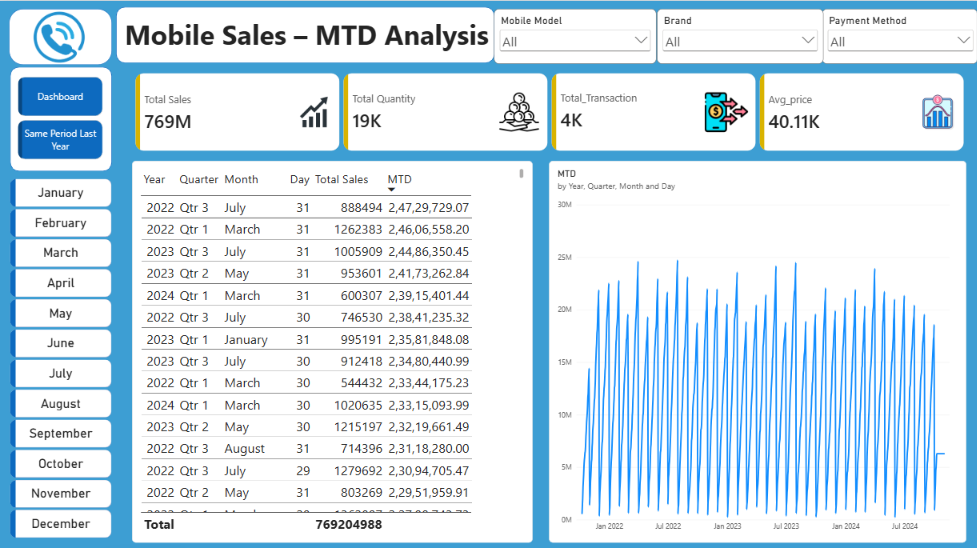

This screenshot's page, from the dashboard's own definition file:
{"tool":"powerbi","page":{"name":"MTD Report","canvas":[1920,1080],"ordinal":1},"visuals":[{"type":"shape","box":[18,16,202,110],"z":0},{"type":"image","box":[60,10,110,126],"z":1000},{"type":"shape","box":[20,130,200,205],"z":2000},{"type":"cardVisual","fields":{"Data":["Sales_Data.Total_sales","Sales_Data.Total Quantity","Sales_Data.Total_Transaction","Sales_Data.Avg_price"]},"box":[260,138,1634,162],"z":3000},{"type":"textbox","box":[322.5,335.4,259.7,142.8],"z":4000},{"type":"tableEx","fields":{"Values":["Custom_Calendar.Date.Variation.Date Hierarchy.Year","Custom_Calendar.Date.Variation.Date Hierarchy.Quarter","Custom_Calendar.Date.Variation.Date Hierarchy.Month","Custom_Calendar.Date.Variation.Date Hierarchy.Day","Sales_Data.Total_sales","Sales_Data.MTD"]},"box":[259.7,313.8,785.6,748.8],"z":5000},{"type":"lineChart","fields":{"Category":["Custom_Calendar.Date.Variation.Date Hierarchy.Year","Custom_Calendar.Date.Variation.Date Hierarchy.Quarter","Custom_Calendar.Date.Variation.Date Hierarchy.Month","Custom_Calendar.Date.Variation.Date Hierarchy.Day"],"Y":["Sales_Data.MTD"]},"box":[1075.6,313.8,818,748.8],"z":6000},{"type":"advancedSlicerVisual","fields":{"Values":["Custom_Calendar.Date.Variation.Date Hierarchy.Month"]},"box":[19.8,348.8,199.6,713.7],"z":7000},{"type":"pageNavigator","box":[34.6,149.3,166.6,162.3],"z":8000},{"type":"shape","box":[227.2,10.8,742.3,110.4],"z":9000},{"type":"slicer","fields":{"Values":["Sales_Data.Mobile Model"]},"box":[969.5,15.1,318,108],"z":10000},{"type":"slicer","fields":{"Values":["Sales_Data.Payment Method"]},"box":[1612.3,15.1,307.3,108.2],"z":11000},{"type":"slicer","fields":{"Values":["Sales_Data.Brand"]},"box":[1287.7,15.1,326,108],"z":12000},{"type":"textbox","box":[240.2,30.3,720.7,71.4],"z":13000}]}

Visuals, with their boxes in screenshot pixels (x1, y1, x2, y2), scaled from the page's 1920x1080 canvas onto the 977x548 screenshot:
shape: bbox=[9, 8, 112, 64]
image: bbox=[31, 5, 87, 69]
shape: bbox=[10, 66, 112, 170]
cardVisual - Sales_Data.Total_sales x Sales_Data.Total Quantity: bbox=[132, 70, 964, 152]
textbox: bbox=[164, 170, 296, 243]
tableEx - Custom_Calendar.Date.Variation.Date Hierarchy.Year x Custom_Calendar.Date.Variation.Date Hierarchy.Quarter: bbox=[132, 159, 532, 539]
lineChart - Custom_Calendar.Date.Variation.Date Hierarchy.Year x Custom_Calendar.Date.Variation.Date Hierarchy.Quarter: bbox=[547, 159, 964, 539]
advancedSlicerVisual - Custom_Calendar.Date.Variation.Date Hierarchy.Month: bbox=[10, 177, 112, 539]
pageNavigator: bbox=[18, 76, 102, 158]
shape: bbox=[116, 5, 493, 61]
slicer - Sales_Data.Mobile Model: bbox=[493, 8, 655, 62]
slicer - Sales_Data.Payment Method: bbox=[820, 8, 976, 63]
slicer - Sales_Data.Brand: bbox=[655, 8, 821, 62]
textbox: bbox=[122, 15, 489, 52]
